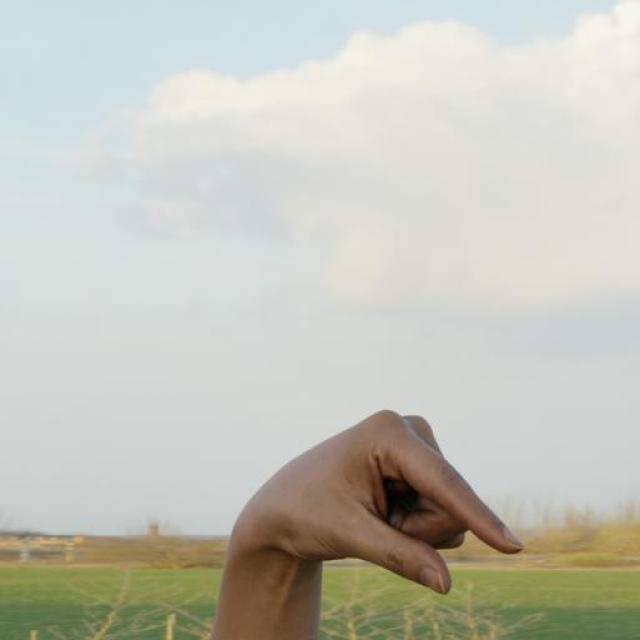Q: (218, 404, 534, 601)
